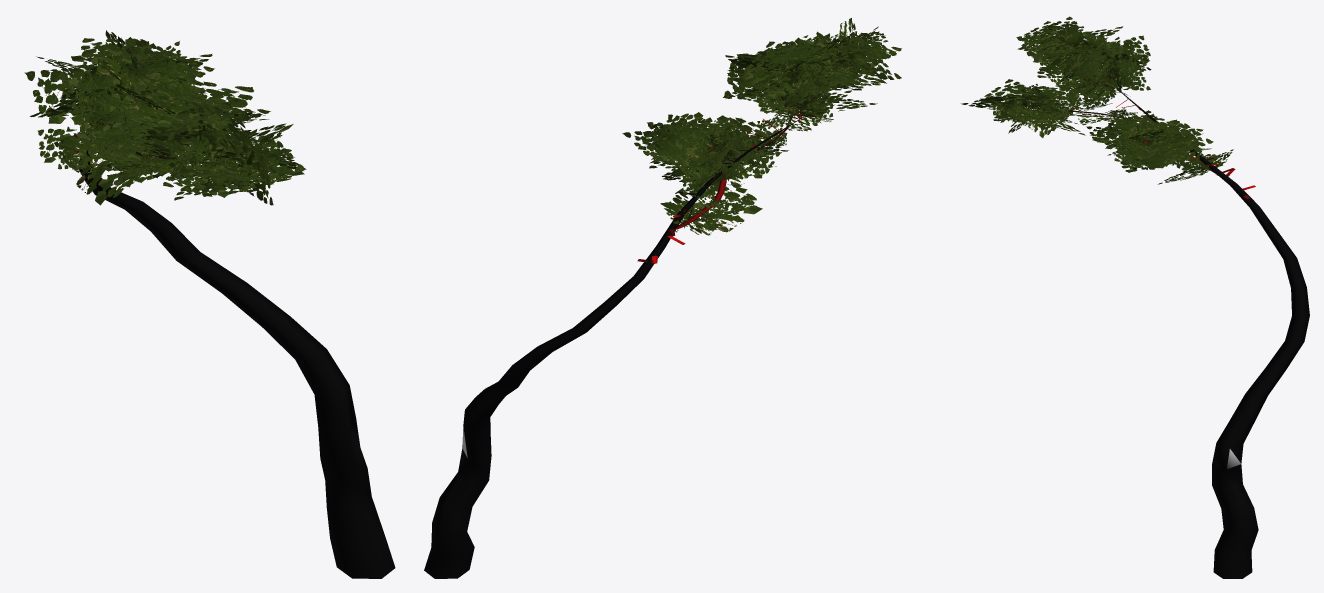
3 views of the same model, side by side, from view 1: azimuth 30°, elevation 25°; view 2: azimuth 150°, elevation 25°; view 3: azimuth 270°, elevation 25° (orthographic). The views are drawn at different scales.
Parts seen in each view (by area): view 1: Tree10; view 2: Tree10; view 3: Tree10.
Boxes of the visible parts, box(x1,y1,x2,y2) form: Tree10: box(24, 30, 395, 578); Tree10: box(424, 18, 901, 578); Tree10: box(961, 16, 1309, 578).
Bounding box in the file's own units: 4.5 × 6 × 4.5.
